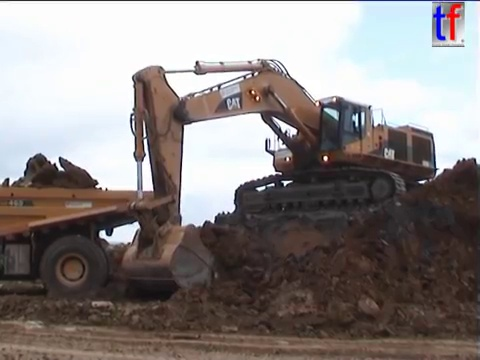excavator: (116, 55, 441, 301)
truck: (1, 176, 178, 302)
